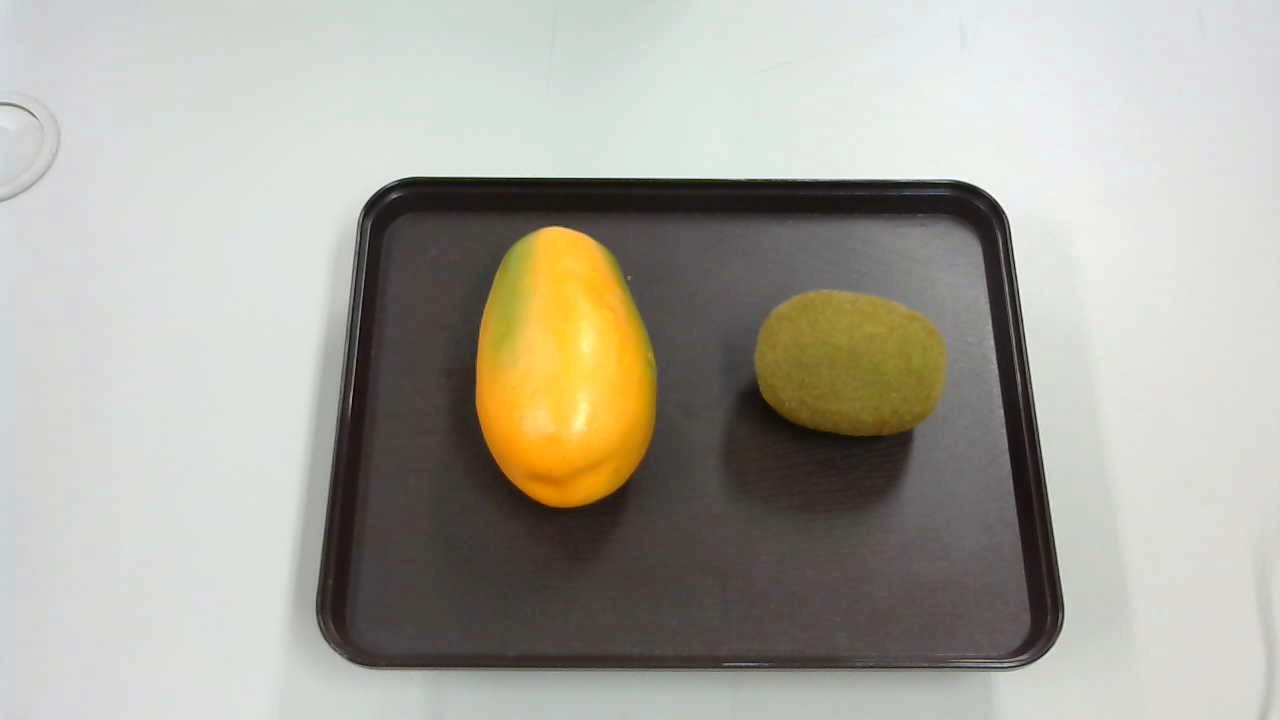kiwi fruit: (742, 287, 949, 445)
papya: (477, 227, 660, 508)
